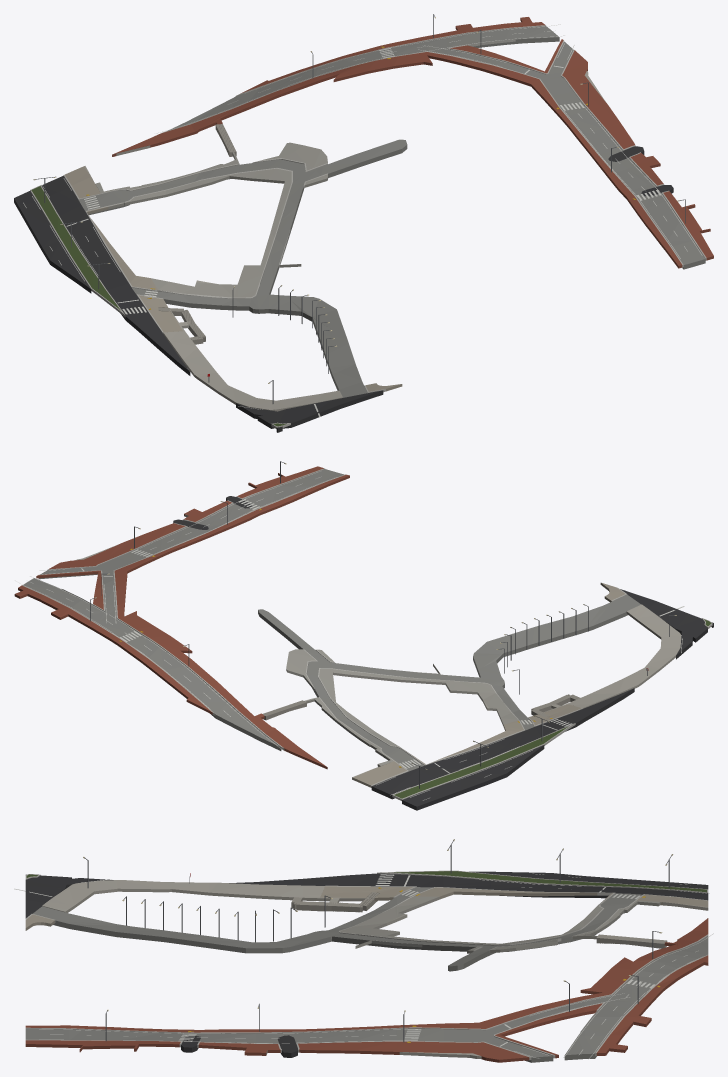
3 renders of one model, top to bottom at view 1: azimuth 30°, elevation 25°; view 2: azimuth 150°, elevation 25°; view 3: azimuth 270°, elevation 25°, orthographic. The views are drawn at different scales.
Size of the model in its own units: 151 by 35.76 by 149.
